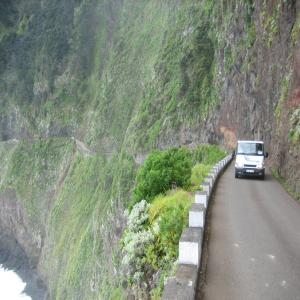Vehicle-registration-plate: (246, 171, 255, 174), (247, 171, 254, 172)
